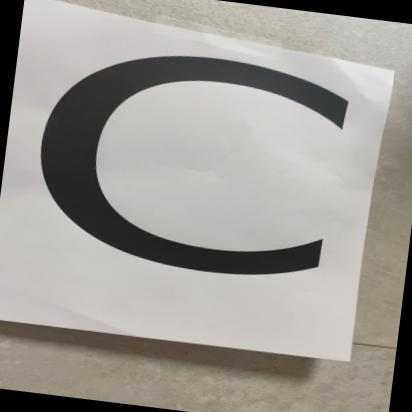seat: (0, 0, 394, 367)
